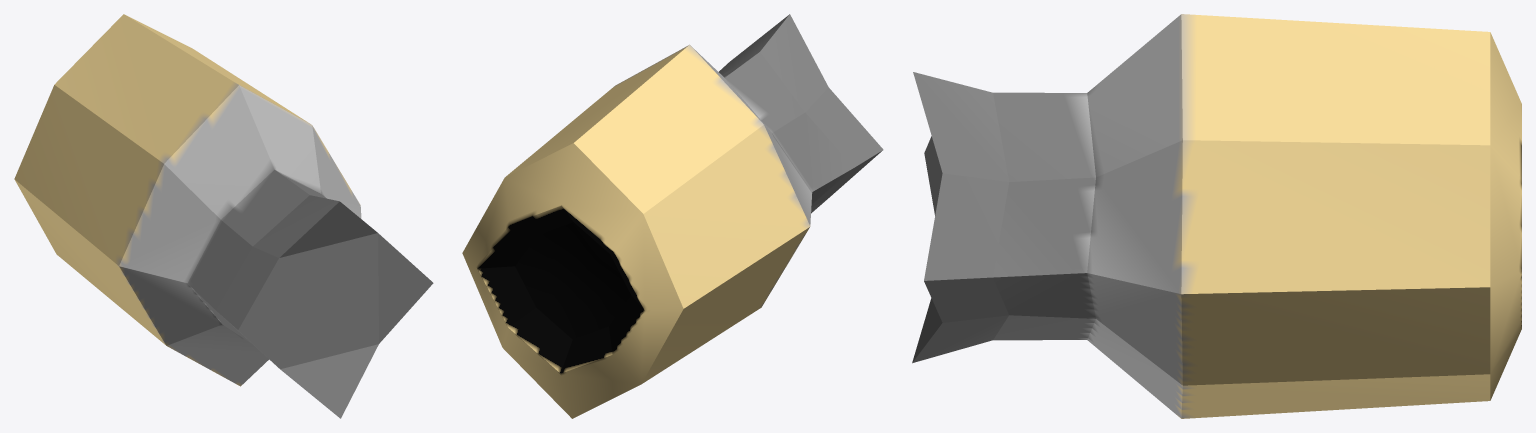
File: turbine 1.FBX
The picture shows the model from 3 angles, left to right: view 1: azimuth 30°, elevation 25°; view 2: azimuth 150°, elevation 25°; view 3: azimuth 270°, elevation 25°; orthographic projection. The views are drawn at different scales.
Visible parts, largest first — view 1: Box001; view 2: Box001; view 3: Box001.
Part boxes in pixels (x1=…): Box001: x1=14, y1=14, x2=433, y2=418; Box001: x1=462, y1=14, x2=883, y2=418; Box001: x1=912, y1=14, x2=1521, y2=418.
Size of the model in its own units: 12.95 by 15.45 by 21.14.
Materials: 1 (1 with a texture image).
